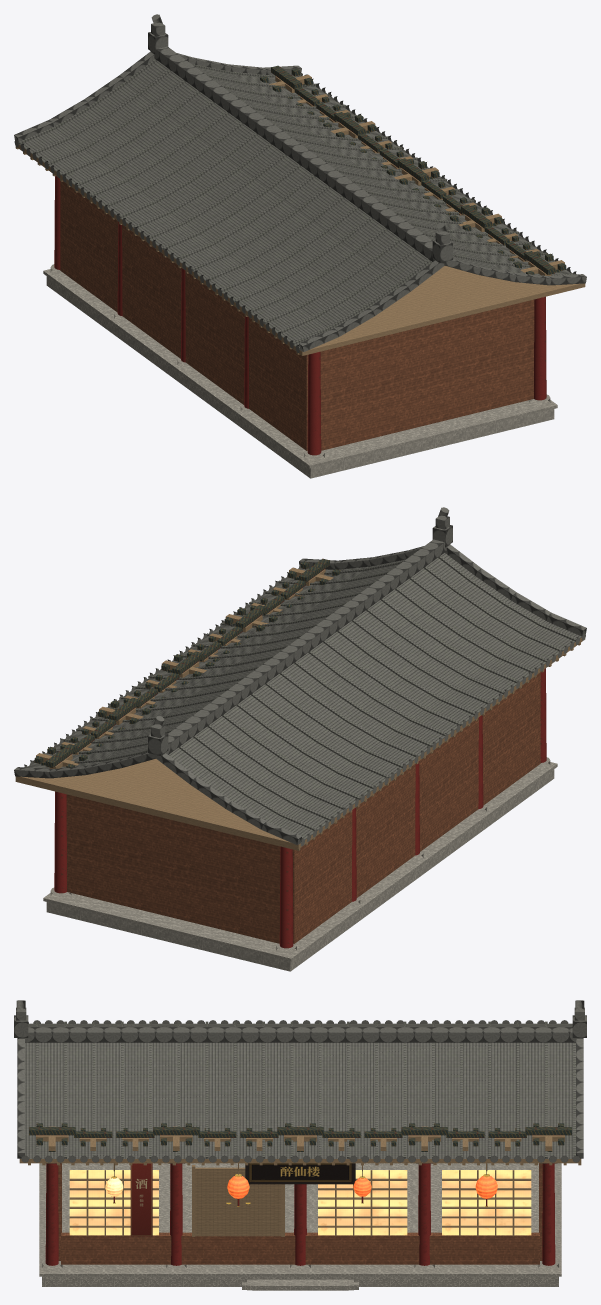
File: shop_3bay.glb
3 views of the same model, one above another, from view 1: azimuth 30°, elevation 25°; view 2: azimuth 150°, elevation 25°; view 3: azimuth 270°, elevation 25° (orthographic).
Parts seen in each view (by area): view 1: wineshop_00; view 2: wineshop_00; view 3: wineshop_00.
Boxes of the visible parts, x1,y1,x2,y2 form: wineshop_00: [14, 14, 586, 478]; wineshop_00: [14, 507, 586, 971]; wineshop_00: [14, 1000, 586, 1290].
Bounding box in the file's own units: 9.59 × 7.31 × 16.62.
Materials: 15 (15 with a texture image).
